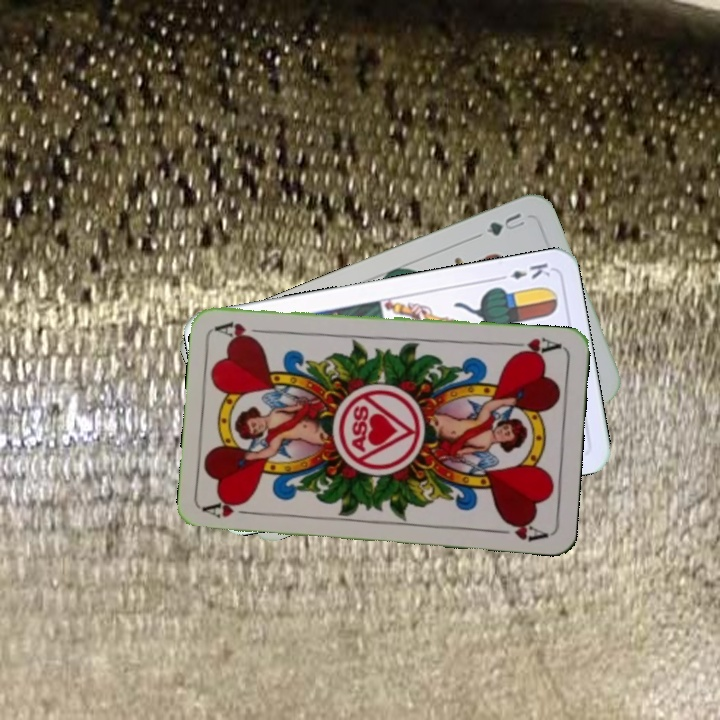EK: (493, 259, 553, 283)
GU: (482, 208, 528, 239)
HA: (504, 333, 564, 360), (201, 495, 260, 520)
